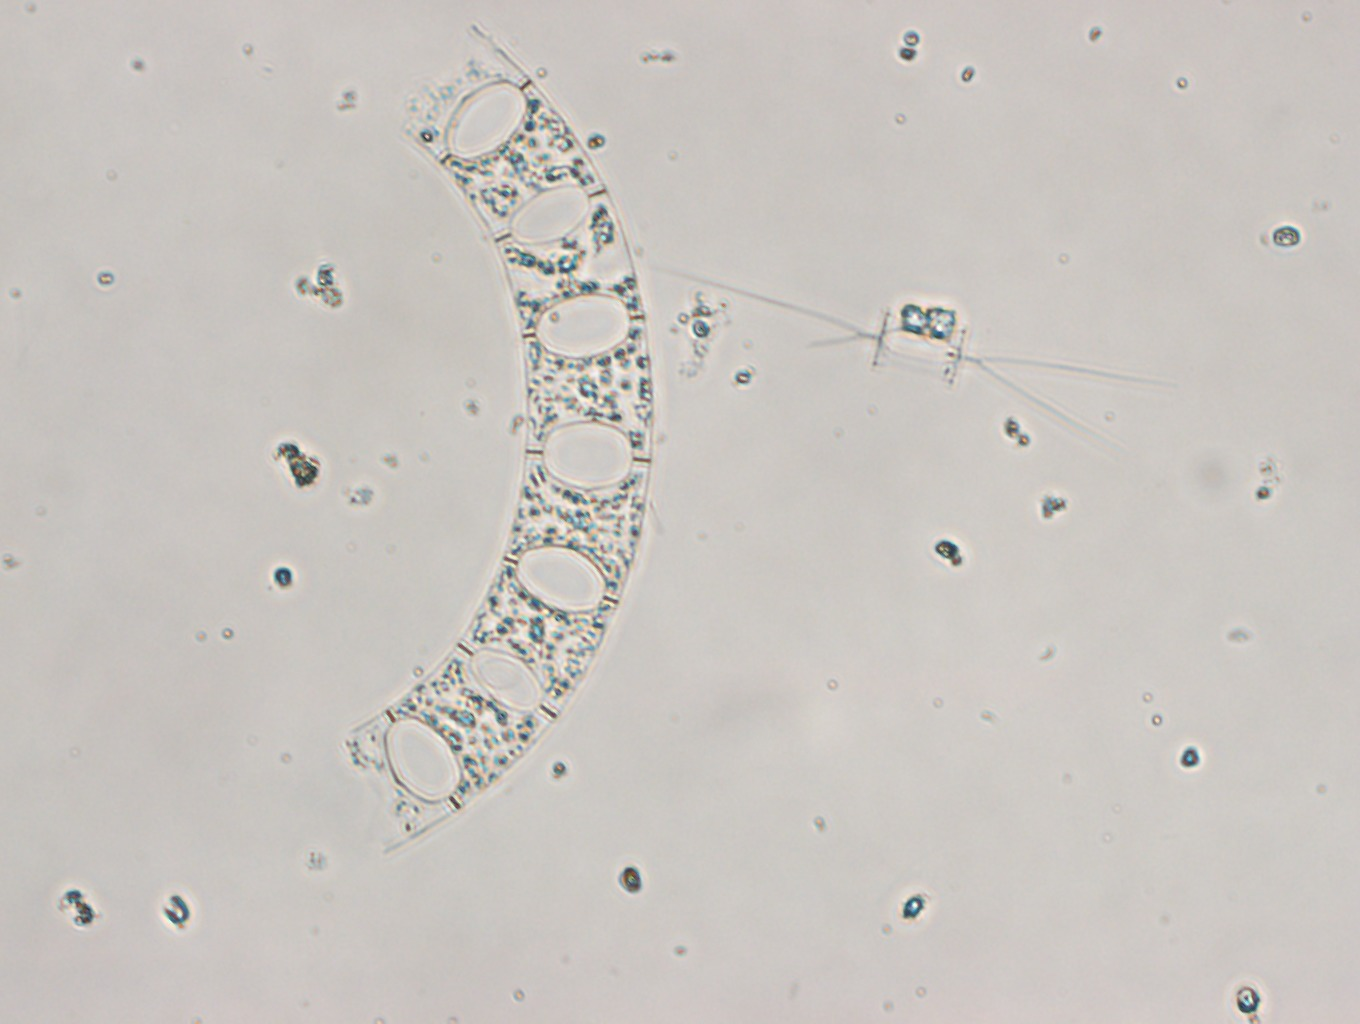chaetoceros: (647, 265, 1183, 457)
eucampia: (341, 19, 654, 857)
